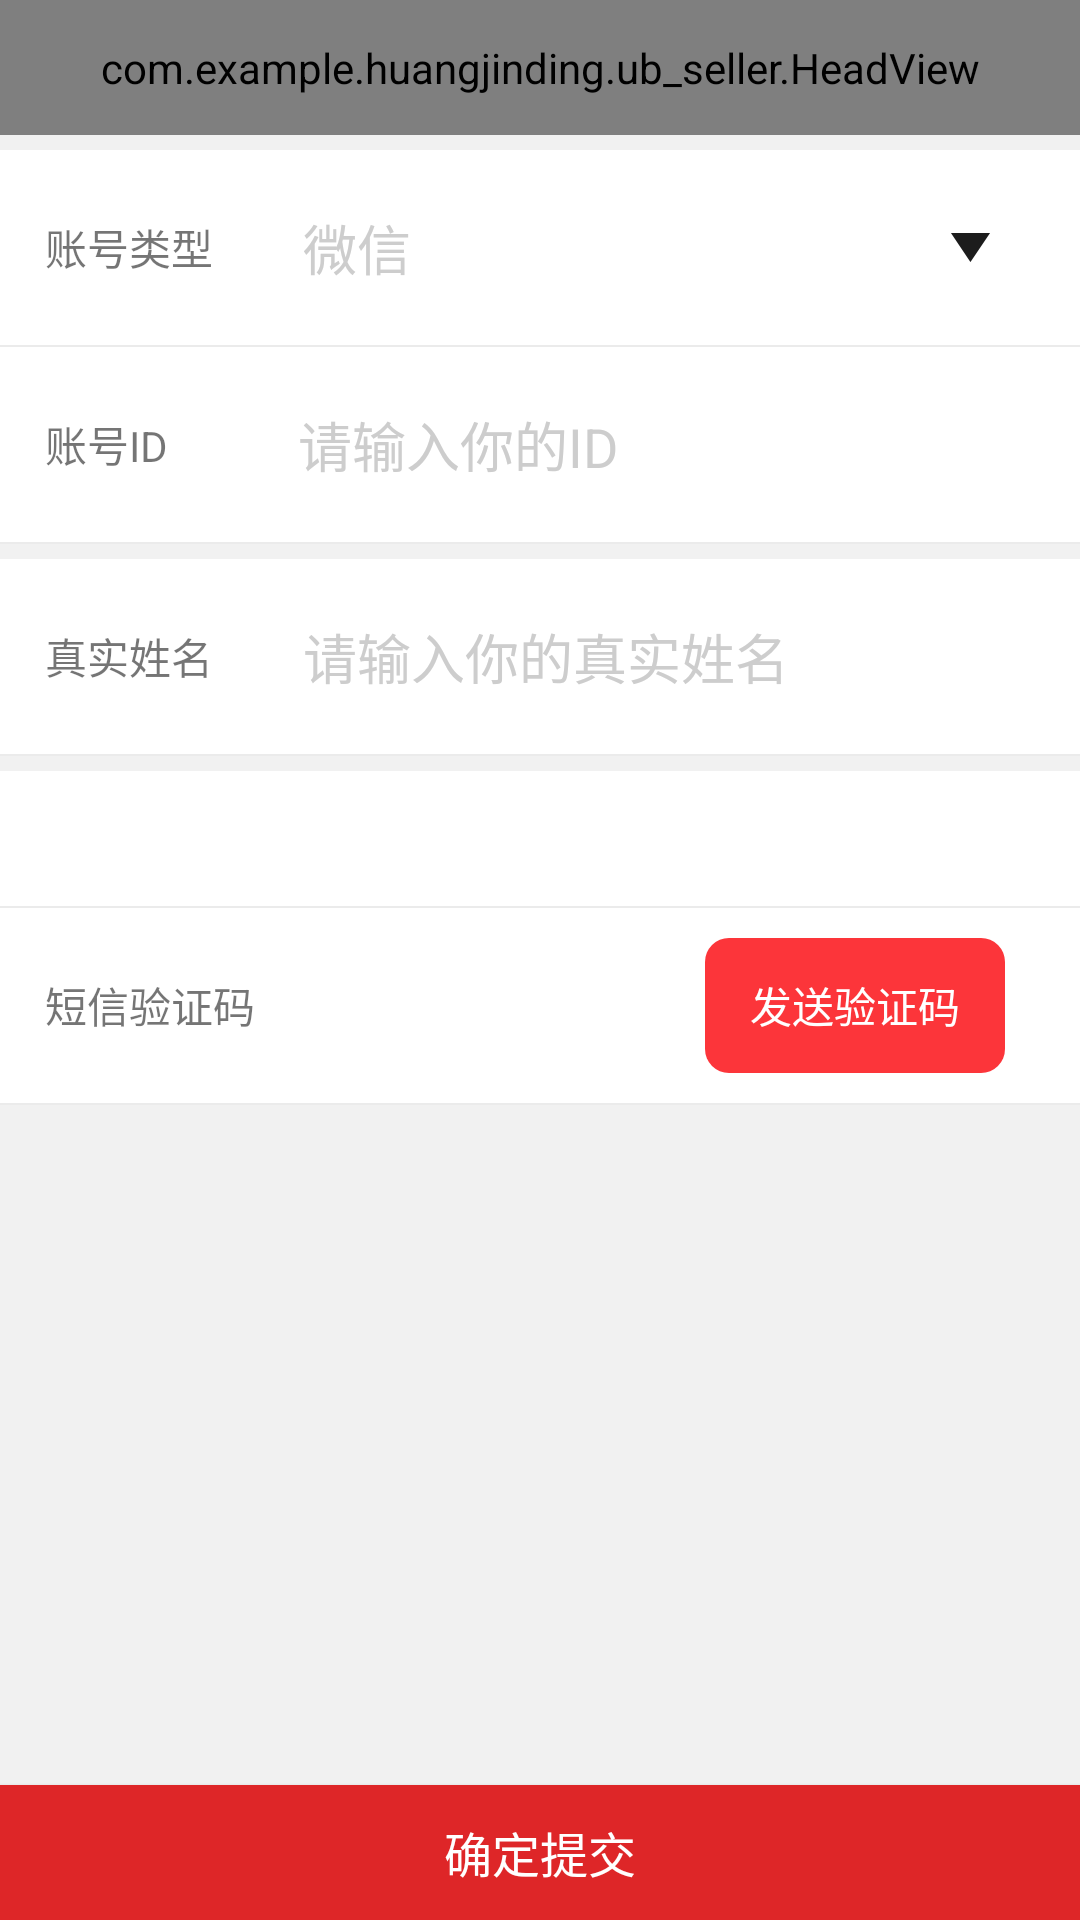

Where icons sit on this 1080w x 1920h app screen, as (x1,y1,x2,y2):
xiala: (951,233,990,262)
